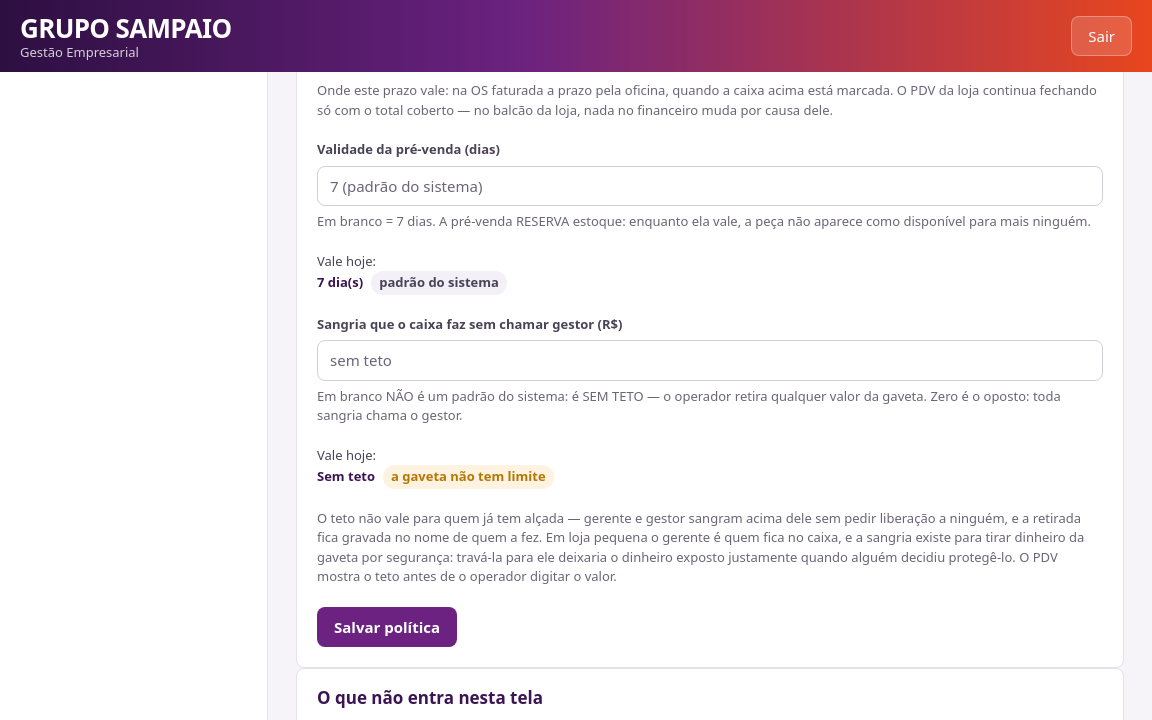
it: o teto da sangria: vazio é SEM TETO, e não um padrão escondido › "500,00" atravessa com a vírgula — quem tem a régua é o servidor
The width and height of the screenshot is (1152, 720).
(page scrolled)
Type "500,00" into the field labelled "Sangria que o caixa faz sem chamar gestor (R$)" at coordinates (710, 360), box [317, 340, 1103, 380]
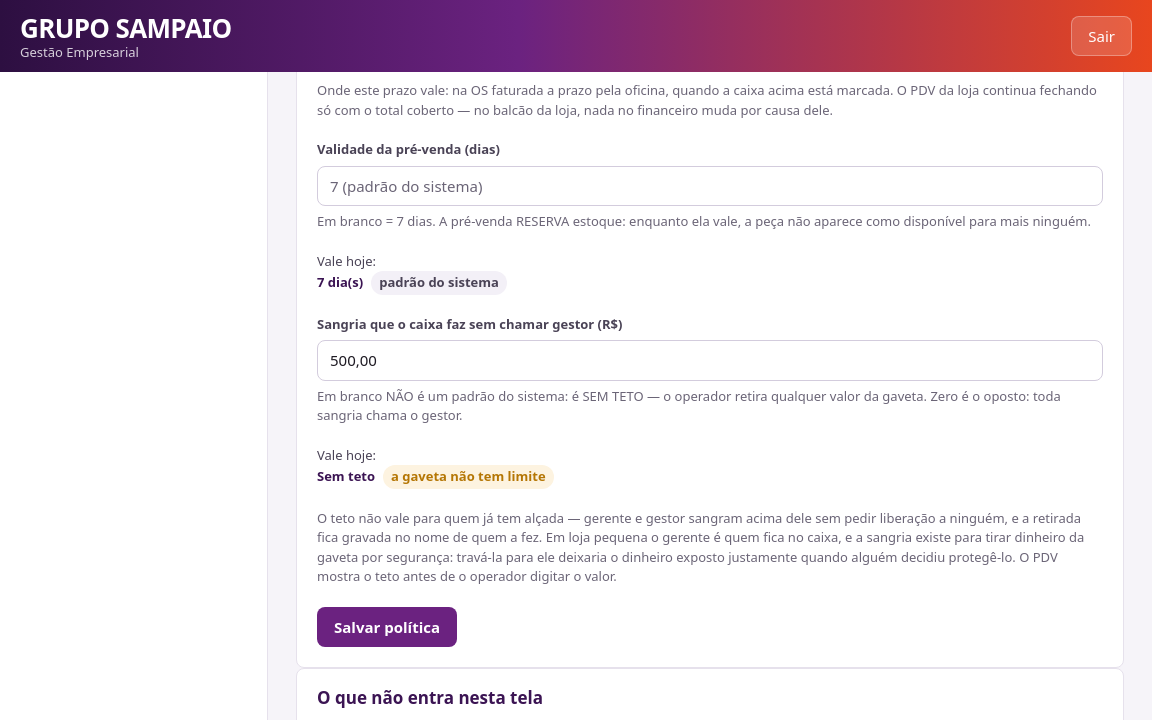
Click the button "Salvar política" at coordinates (387, 627), box [317, 606, 457, 647]
(page scrolled)
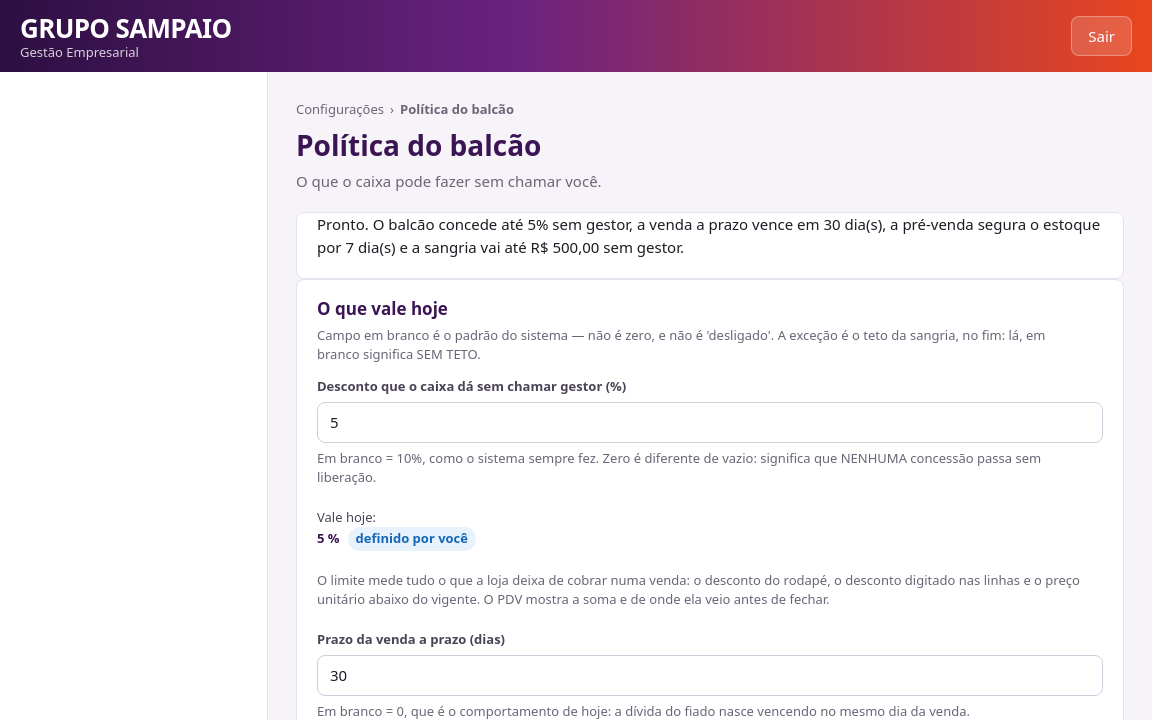
Expected: the text "a sangria vai até" is shown, [317, 214, 1100, 256]
